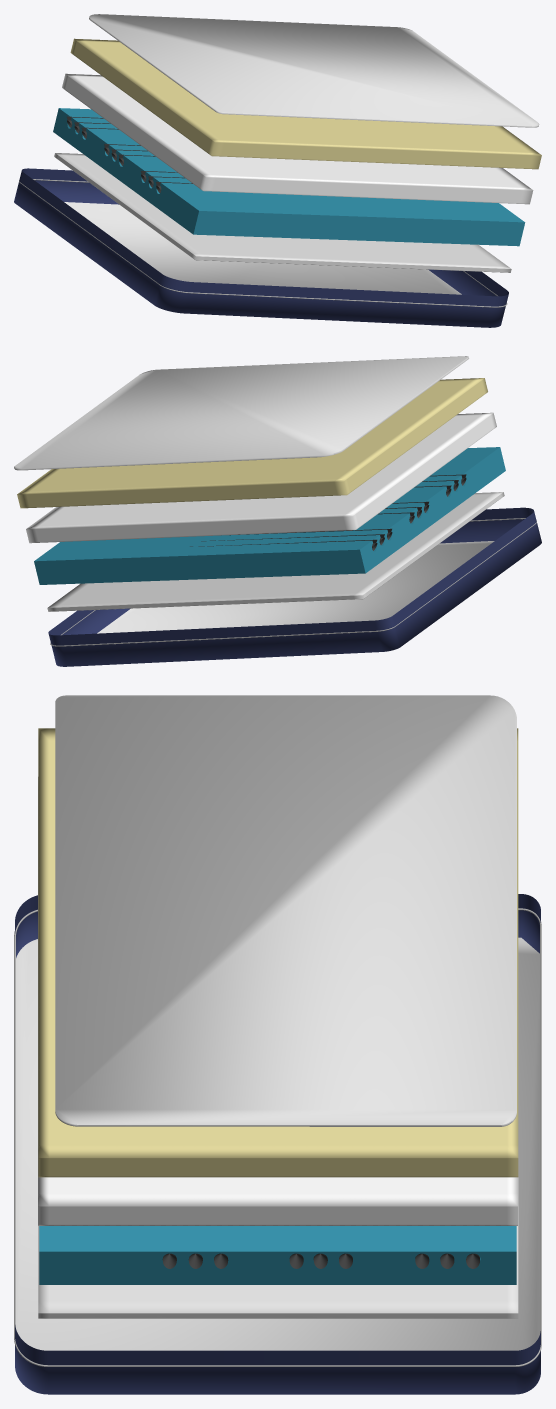
The model's file is Posture_Infinity.glb.
3 views of the same model, one above another, from view 1: azimuth 30°, elevation 25°; view 2: azimuth 150°, elevation 25°; view 3: azimuth 270°, elevation 25° (orthographic). The views are drawn at different scales.
Visible parts, largest first — view 1: Cube.119, Cube.121, Cube.031, Cube.118, Cube.122, Cube.120; view 2: Cube.119, Cube.121, Cube.031, Cube.118, Cube.122, Cube.120; view 3: Cube.119, Cube.121, Cube.118, Cube.031, Cube.122, Cube.120.
Part boxes in pixels (x1,y1,x2,y2): Cube.119: [89, 14, 539, 127]; Cube.121: [14, 168, 508, 327]; Cube.031: [53, 108, 525, 246]; Cube.118: [70, 38, 541, 169]; Cube.122: [62, 73, 533, 204]; Cube.120: [54, 153, 511, 272]; Cube.119: [14, 356, 468, 470]; Cube.121: [48, 507, 541, 666]; Cube.031: [34, 447, 505, 584]; Cube.118: [17, 378, 487, 508]; Cube.122: [26, 412, 496, 543]; Cube.120: [47, 492, 504, 611]; Cube.119: [55, 695, 516, 1126]; Cube.121: [14, 894, 541, 1394]; Cube.118: [38, 728, 518, 1177]; Cube.031: [39, 1226, 516, 1284]; Cube.122: [38, 777, 517, 1225]; Cube.120: [38, 1177, 518, 1318].
Size of the model in its own units: 16.06 by 10.77 by 11.01.
10 materials, 1 textured.
